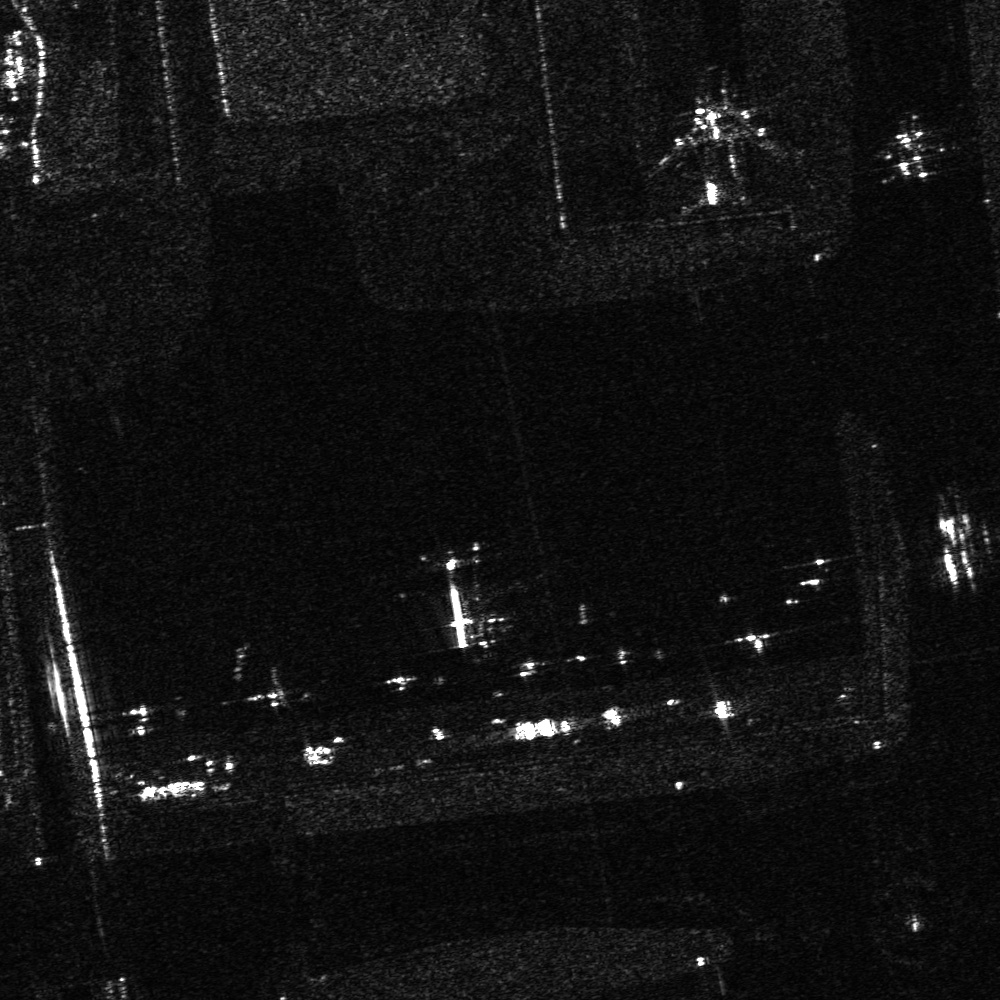A330: (859, 112, 961, 197)
Boeing787: (393, 531, 528, 649)
other: (634, 83, 792, 216)
